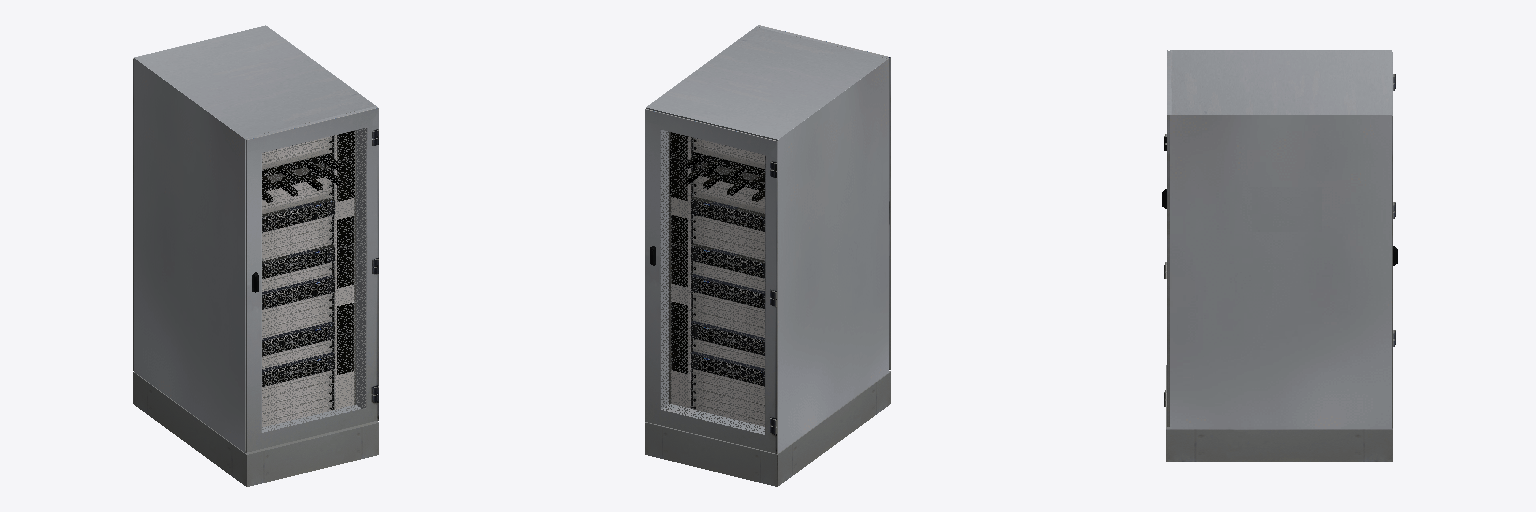
The picture shows the model from 3 angles: view 1: azimuth 30°, elevation 25°; view 2: azimuth 150°, elevation 25°; view 3: azimuth 270°, elevation 25°; orthographic projection.
Visible parts, largest first — view 1: SET8A2; view 2: SET8A2; view 3: SET8A2.
Part boxes in pixels (left/top/right/bottom): SET8A2: left=133, top=25, right=378, bottom=486; SET8A2: left=645, top=25, right=890, bottom=486; SET8A2: left=1162, top=50, right=1397, bottom=461.
Bounding box in the file's own units: 0.8 × 2 × 1.23.
1 materials, 1 textured.